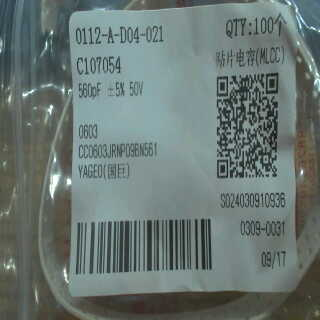560pF: (76, 81, 106, 100)
